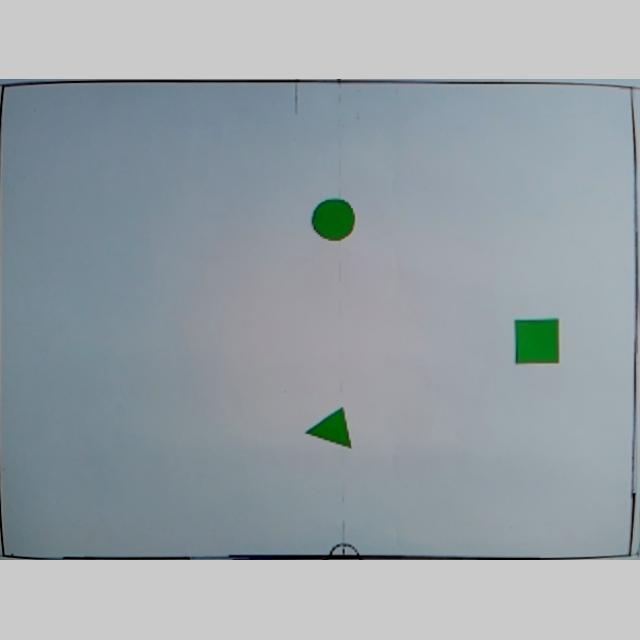greenCircle: (310, 198, 356, 244)
greenSquare: (513, 317, 563, 369)
greenTriangle: (304, 406, 352, 450)
